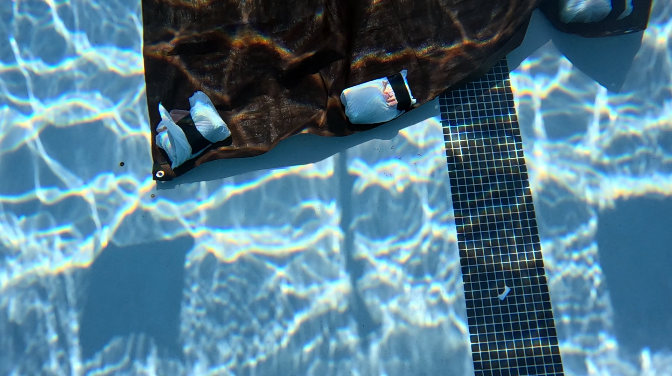sandbag: (140, 0, 536, 179)
